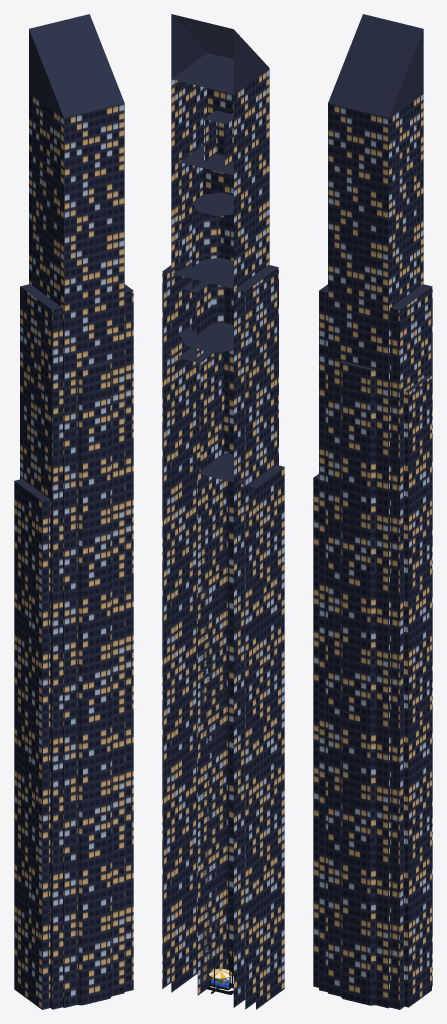
Rendered from Hub_PropLibrary.fbx.
The picture shows the model from 3 angles, left to right: view 1: azimuth 30°, elevation 25°; view 2: azimuth 150°, elevation 25°; view 3: azimuth 330°, elevation 25°; orthographic projection. The views are drawn at different scales.
Visible parts, largest first — view 1: Tower_B, Tower_C, Tower_A, Tower_D; view 2: Tower_B, Tower_D, Tower_A, Tower_C; view 3: Tower_B, Tower_C, Tower_D, Tower_A.
Part boxes in pixels (x1,y1,x2,y2): Tower_B: [29, 14, 124, 1007]; Tower_C: [77, 361, 111, 1005]; Tower_A: [20, 284, 133, 1009]; Tower_D: [14, 479, 50, 1009]; Tower_B: [171, 14, 269, 1007]; Tower_D: [167, 281, 284, 1009]; Tower_A: [162, 110, 278, 1009]; Tower_C: [179, 192, 245, 471]; Tower_B: [328, 14, 423, 1008]; Tower_C: [341, 361, 375, 1005]; Tower_D: [313, 375, 431, 1007]; Tower_A: [319, 284, 432, 1009].
Size of the model in its own units: 46 by 450 by 33.26.
4 materials, 2 textured.
